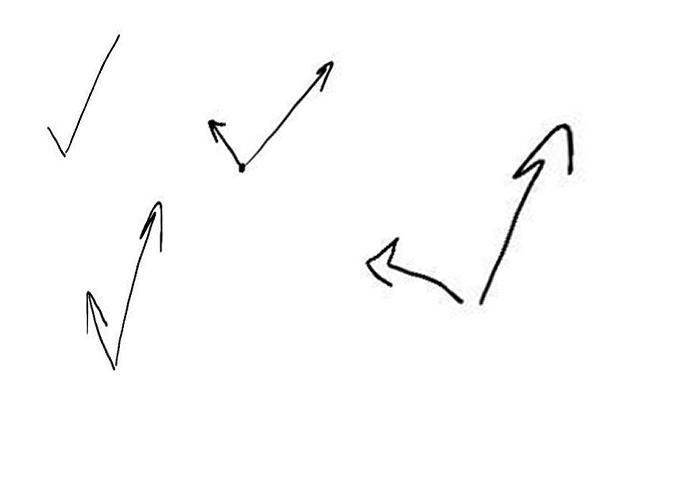arrow: (481, 123, 576, 302), (247, 58, 334, 164), (116, 200, 165, 362), (365, 241, 464, 303), (83, 289, 116, 370), (205, 118, 240, 165)
arrownohead: (67, 34, 122, 149), (48, 124, 65, 155)
